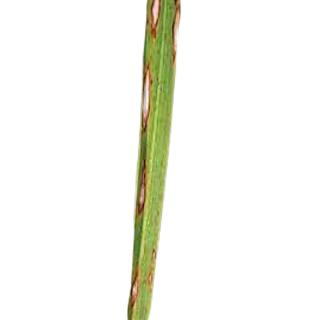Blast: (135, 55, 162, 132), (167, 1, 190, 66), (124, 258, 148, 320), (134, 169, 156, 221), (144, 0, 171, 41)
